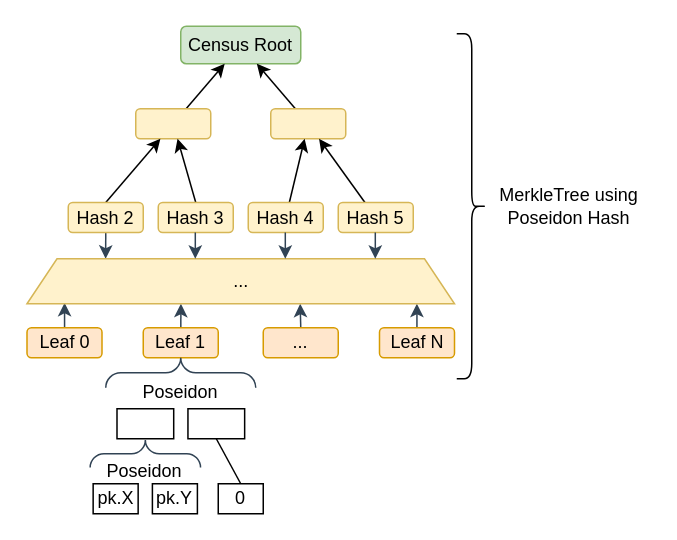
Image size: 677x540. Some labels were removed from this diagram. The shapes that lost their labels are listed below. From the top down, each one's centre as x and y in pixels, then its label:
At [172,123]: "Hash 0".
At [307,123]: "Hash 1".
At [145,423]: "Key".
At [215,423]: "Value".
